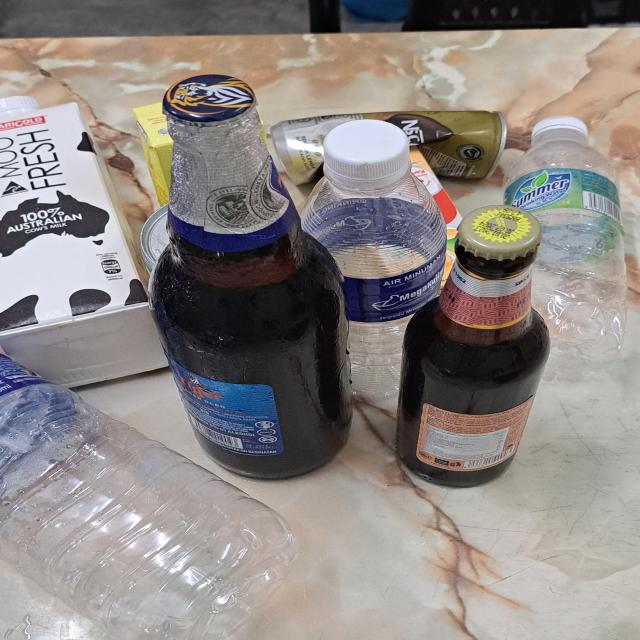can: (270, 110, 510, 181)
drink carton: (1, 105, 177, 382), (130, 99, 244, 203)
glass bottle: (138, 112, 352, 480), (401, 203, 549, 489)
plastic bottle: (0, 337, 296, 640), (300, 178, 440, 393), (504, 144, 632, 364)
plastic bottle cap: (322, 117, 401, 188), (526, 111, 590, 138), (2, 94, 36, 118)
